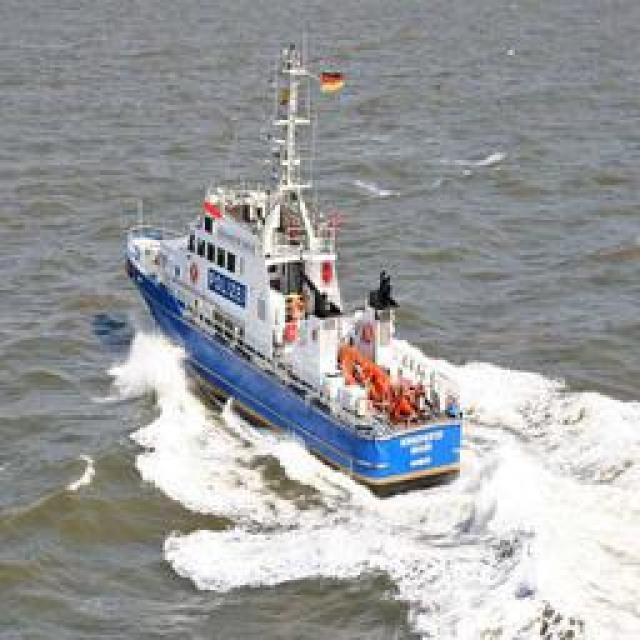ship2: (124, 30, 465, 499)
